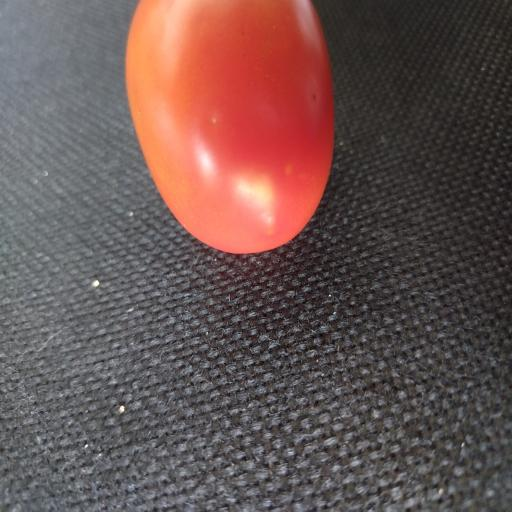ripe: (126, 0, 334, 253)
